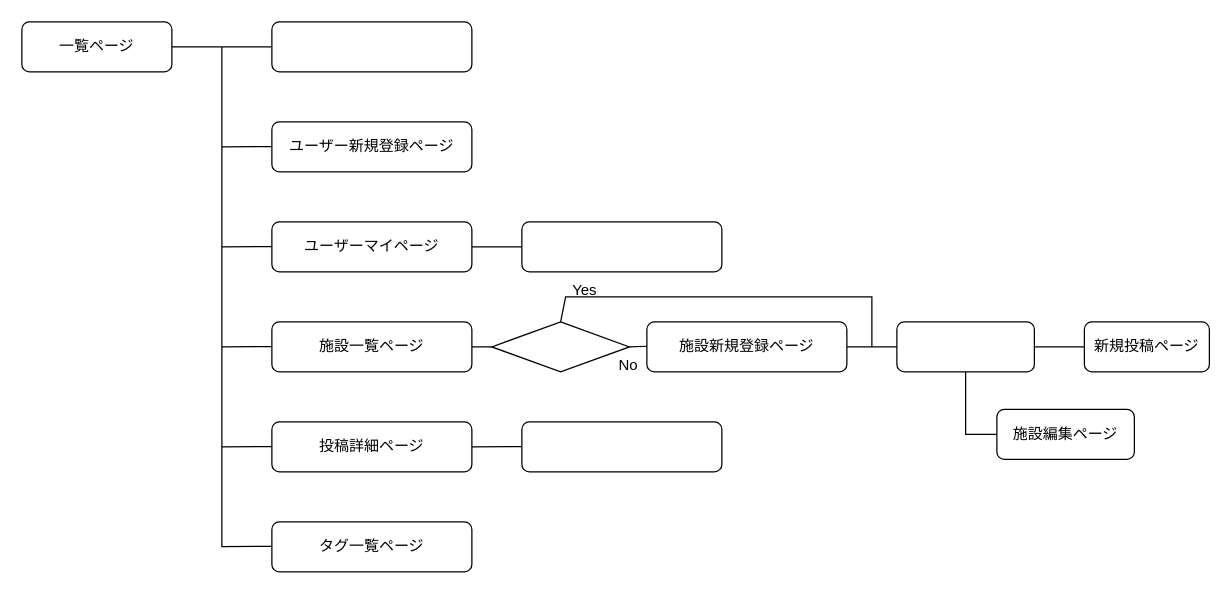
Some shapes in this 1231 by 594 pixel diagram are drawn without their labels. Each missing label, with the box of its shape:
ペット登録ページ: (521, 221, 722, 272)
ユーザーログインページ: (271, 21, 472, 72)
投稿編集ページ: (521, 421, 722, 472)
施設登録済？: (491, 321, 629, 372)
施設詳細ページ: (896, 321, 1034, 372)
